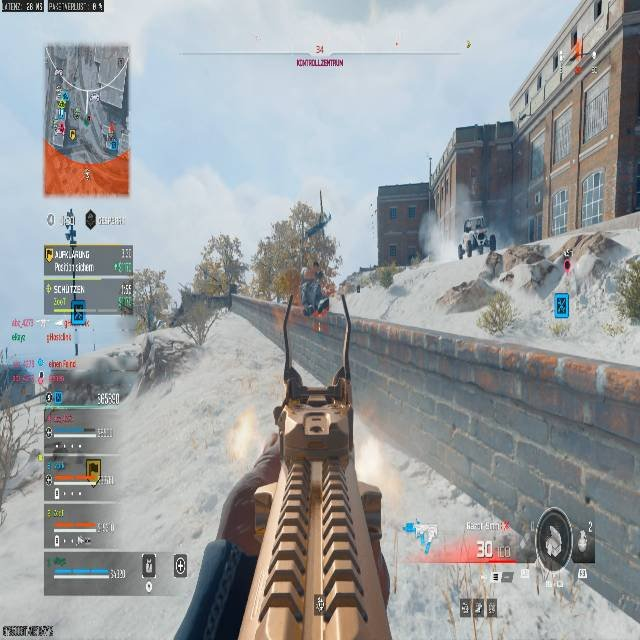head: (464, 219, 474, 231)
player: (458, 217, 492, 260)
